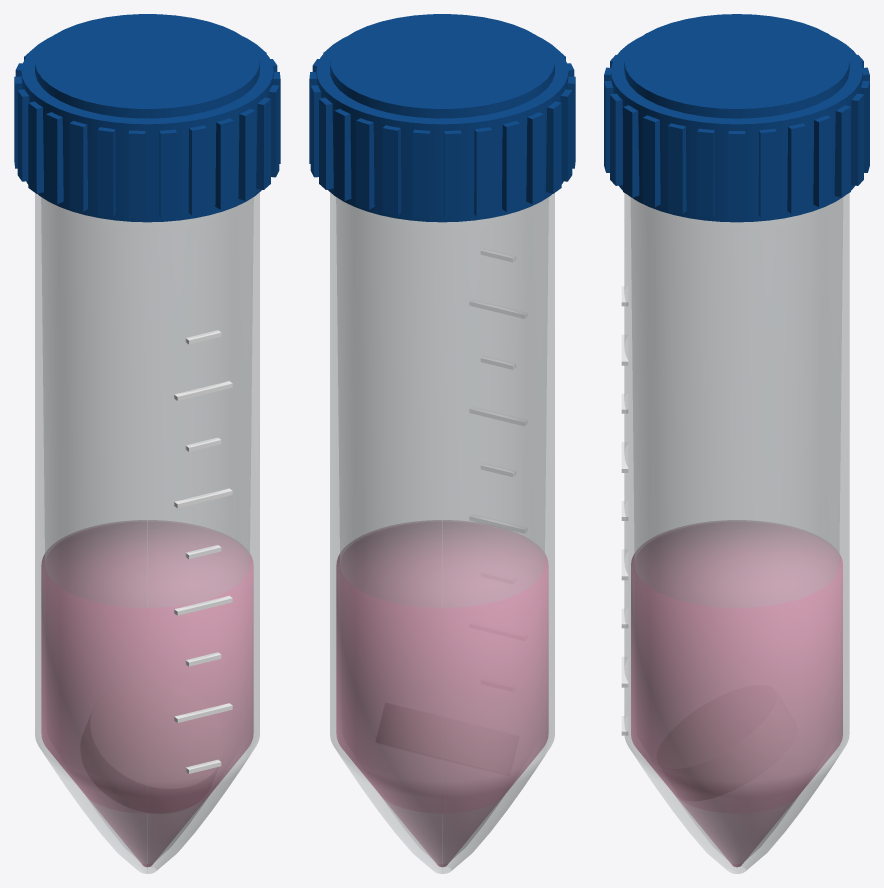
Rendered from falcon-with-disc.glb.
The picture shows the model from 3 angles, left to right: view 1: azimuth 30°, elevation 25°; view 2: azimuth 150°, elevation 25°; view 3: azimuth 270°, elevation 25°; orthographic projection.
Visible parts, largest first — view 1: tube_1_shell, tube_1_medium, cap_1_top, cap_1_body, cap_1_rib_11, cap_1_rib_12, cap_1_rib_8, cap_1_rib_7, cap_1_rib_9, cap_1_rib_10, cap_1_rib_13, cap_1_rib_6 (+4 smaller); view 2: tube_1_shell, tube_1_medium, cap_1_top, cap_1_body, cap_1_rib_16, cap_1_rib_17, cap_1_rib_20, cap_1_rib_21, cap_1_rib_19, cap_1_rib_18, cap_1_rib_15, cap_1_rib_22 (+4 smaller); view 3: tube_1_shell, tube_1_medium, cap_1_top, cap_1_body, cap_1_rib_3, cap_1_rib_25, cap_1_rib_4, cap_1_rib_24, cap_1_rib_2, cap_1_rib_26, cap_1_rib_1, cap_1_rib_5 (+5 smaller).
Boxes of the visible parts, x1,y1,x2,y2 form: tube_1_shell: (35,192,259,873); tube_1_medium: (41,520,253,867); cap_1_top: (35,14,259,118); cap_1_body: (21,36,273,222); cap_1_rib_11: (97,127,115,216); cap_1_rib_12: (69,121,87,211); cap_1_rib_8: (188,125,206,215); cap_1_rib_7: (215,118,233,209); cap_1_rib_9: (159,129,176,218); cap_1_rib_10: (128,130,145,218); cap_1_rib_13: (46,112,63,203); cap_1_rib_6: (238,109,255,200); tube_1_shell: (330,192,554,873); tube_1_medium: (336,520,548,867); cap_1_top: (330,14,554,118); cap_1_body: (316,36,568,222); cap_1_rib_16: (502,121,520,211); cap_1_rib_17: (474,127,492,216); cap_1_rib_20: (383,125,401,215); cap_1_rib_21: (356,118,374,209); cap_1_rib_19: (413,129,430,218); cap_1_rib_18: (444,130,461,218); cap_1_rib_15: (526,112,543,203); cap_1_rib_22: (334,109,351,200); tube_1_shell: (624,193,849,873); tube_1_medium: (631,520,842,867); cap_1_top: (624,14,849,118); cap_1_body: (611,36,862,222); cap_1_rib_3: (668,123,686,213); cap_1_rib_25: (787,123,805,213); cap_1_rib_4: (642,115,660,206); cap_1_rib_24: (813,115,831,206); cap_1_rib_2: (697,128,715,217); cap_1_rib_26: (758,128,776,217); cap_1_rib_1: (728,131,745,218); cap_1_rib_5: (623,105,639,197).
Size of the model in its own units: 0.0354 by 0.1189 by 0.0354.
